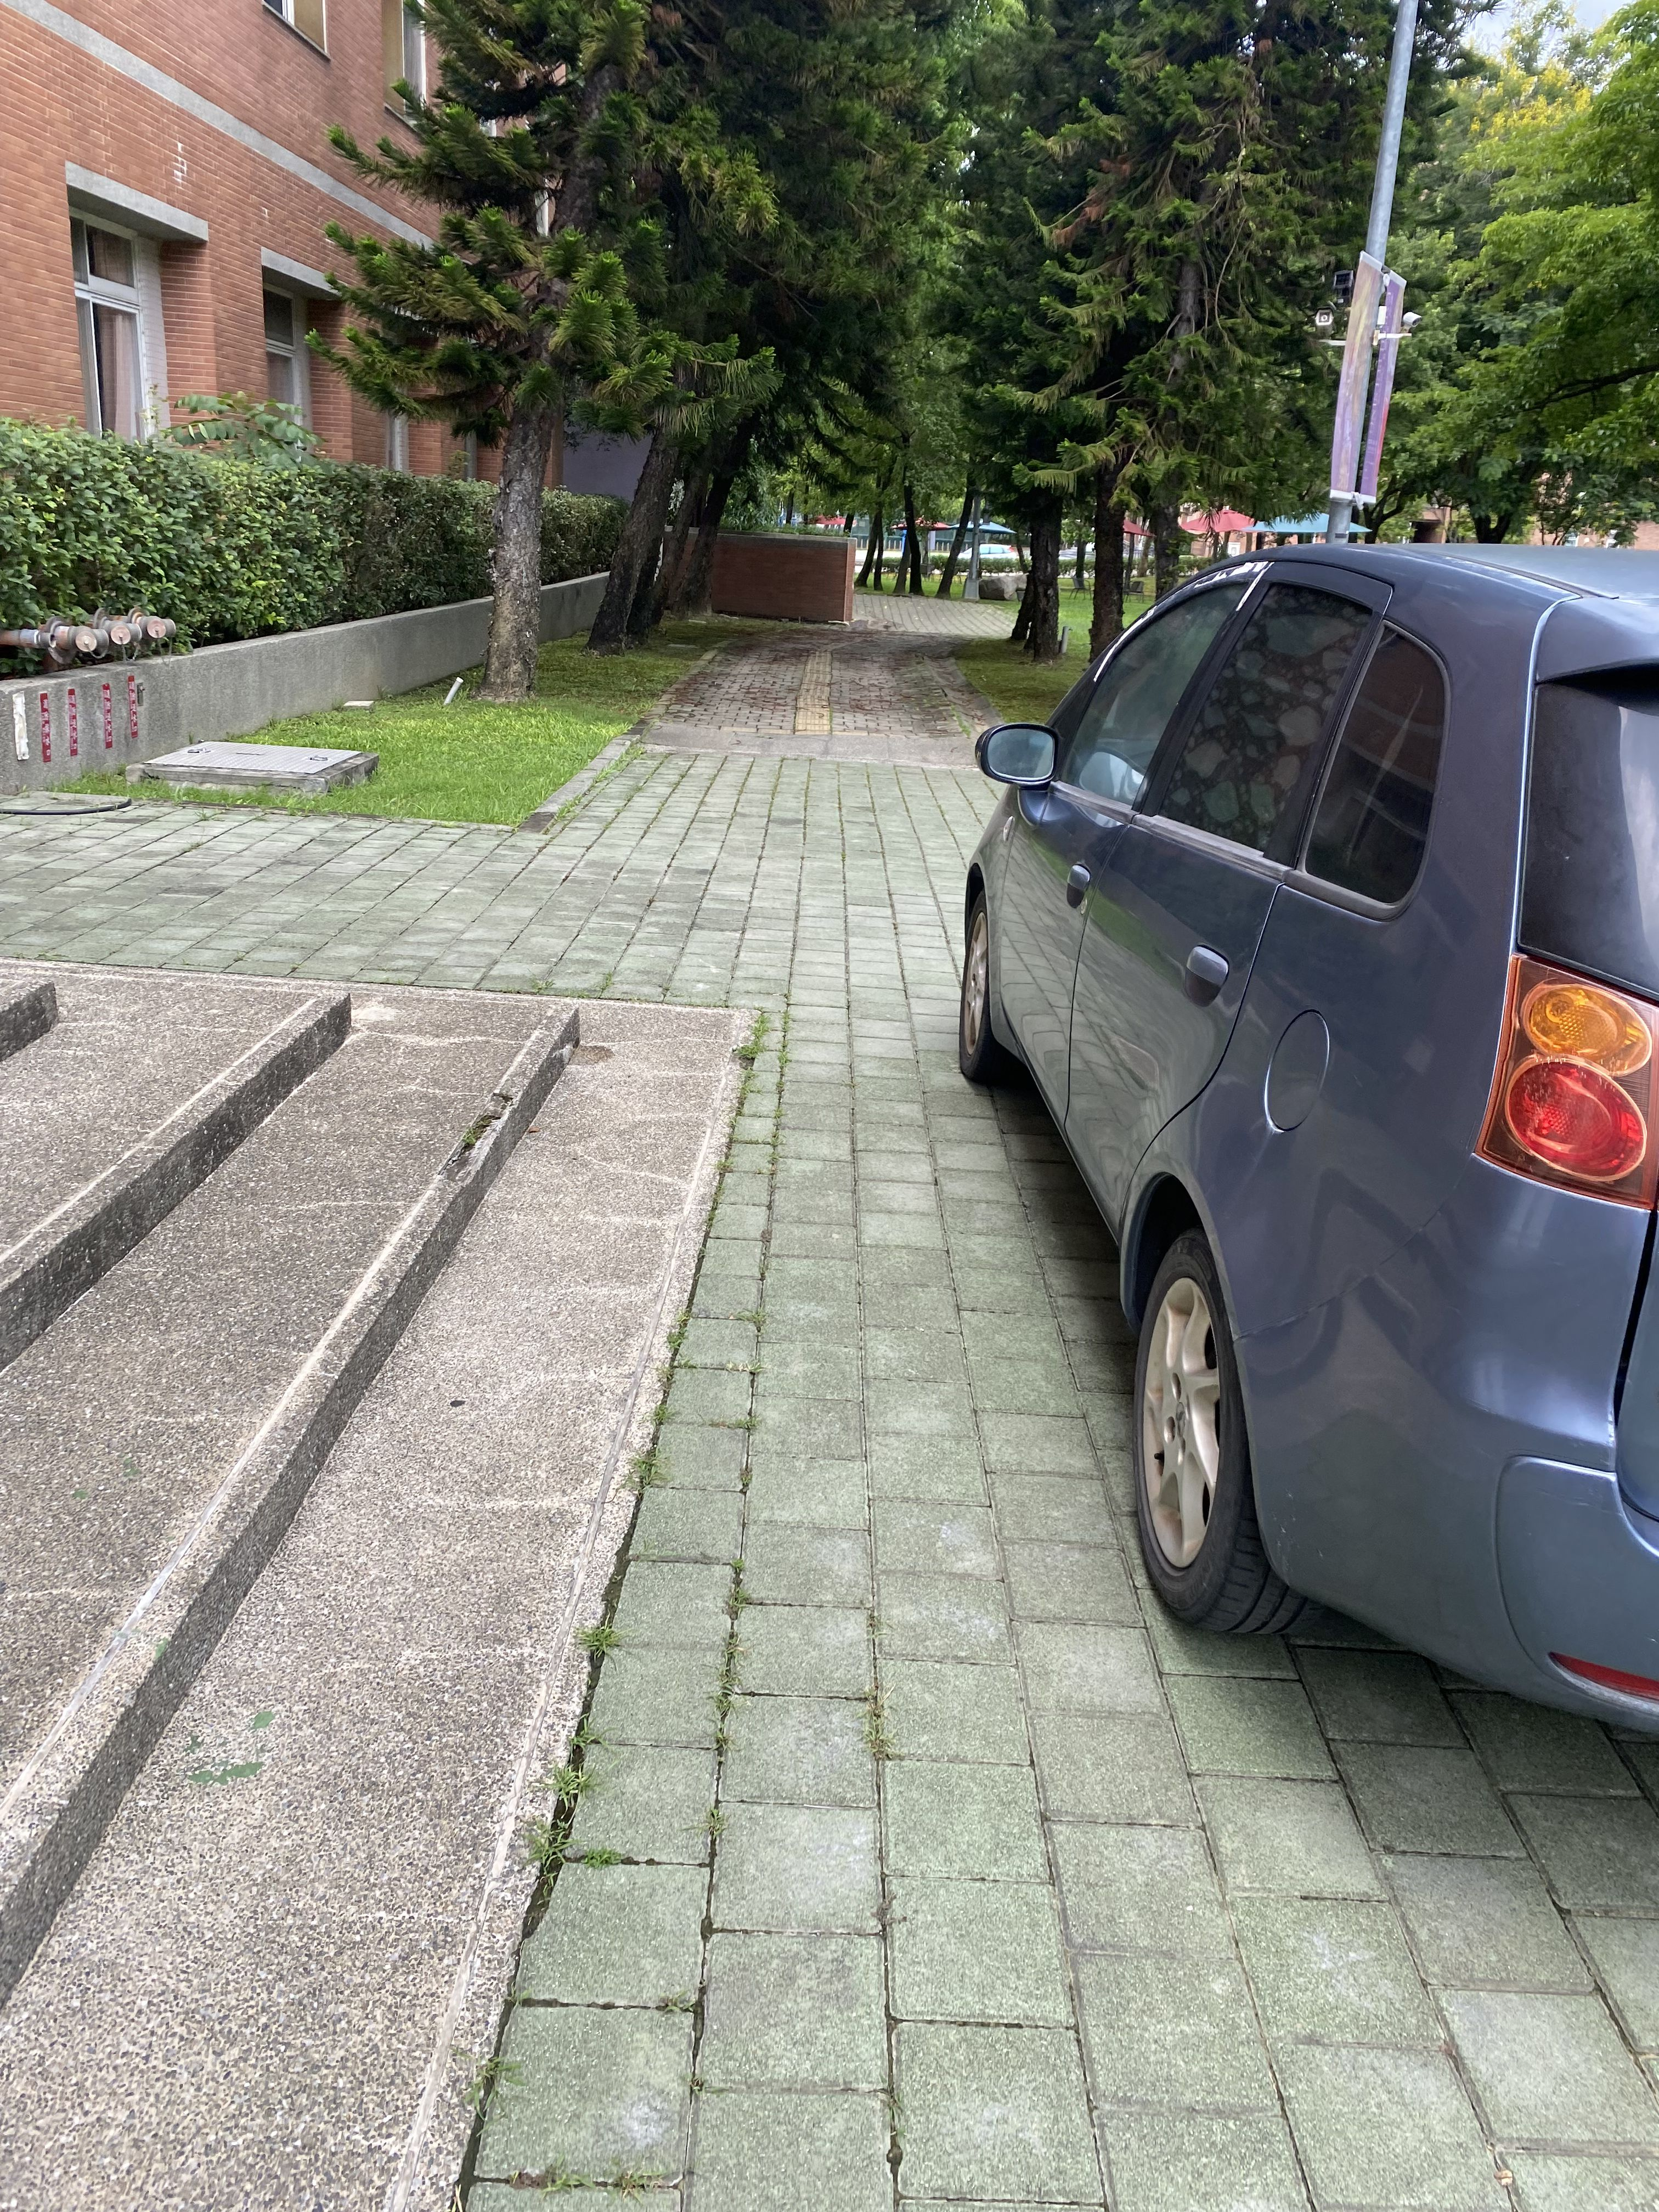sidewalk: (631, 571, 1659, 2212)
